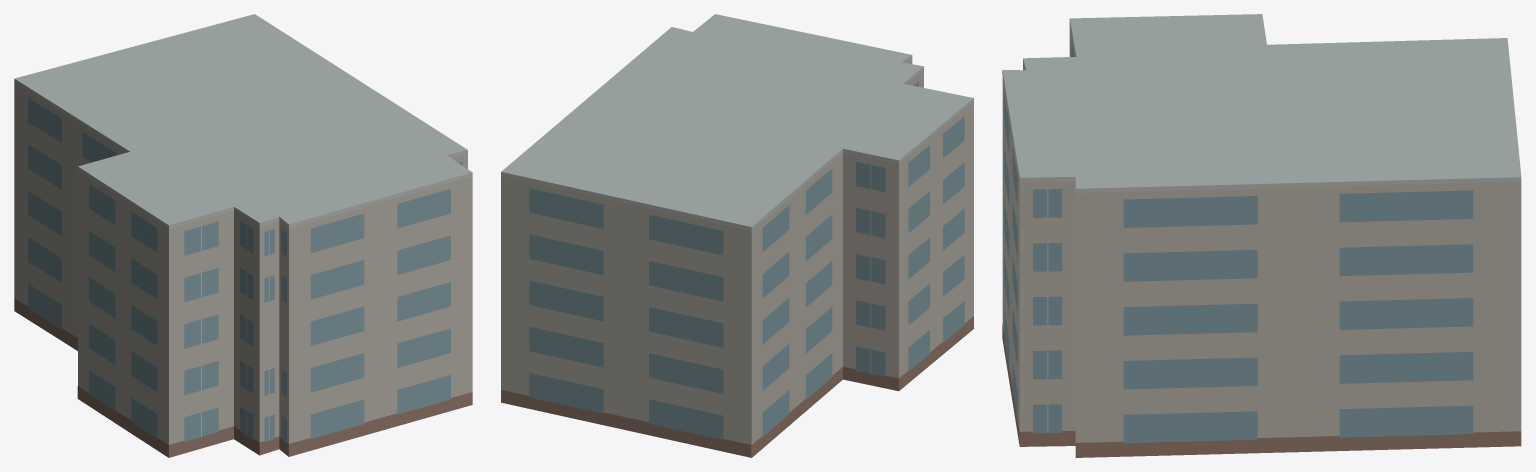
Rendered from survey-upis-32678203.glb.
3 views of the same model, side by side, from view 1: azimuth 30°, elevation 25°; view 2: azimuth 150°, elevation 25°; view 3: azimuth 270°, elevation 25° (orthographic). The views are drawn at different scales.
Visible parts, largest first — view 1: survey-upis-32678203.tmp; view 2: survey-upis-32678203.tmp; view 3: survey-upis-32678203.tmp.
Part boxes in pixels (x1,y1,x2,y2): survey-upis-32678203.tmp: (14,14,472,457); survey-upis-32678203.tmp: (501,14,973,457); survey-upis-32678203.tmp: (1002,14,1521,457).
Size of the model in its own units: 20.31 by 14.57 by 25.48.
